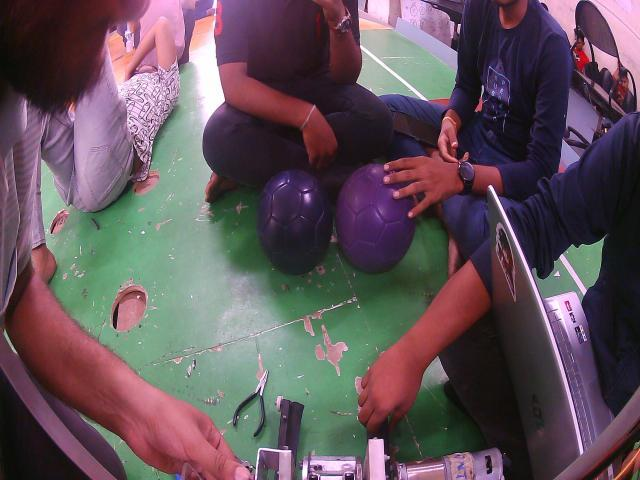jambhalya: (335, 164, 415, 273)
kaalyya: (257, 170, 332, 273)
